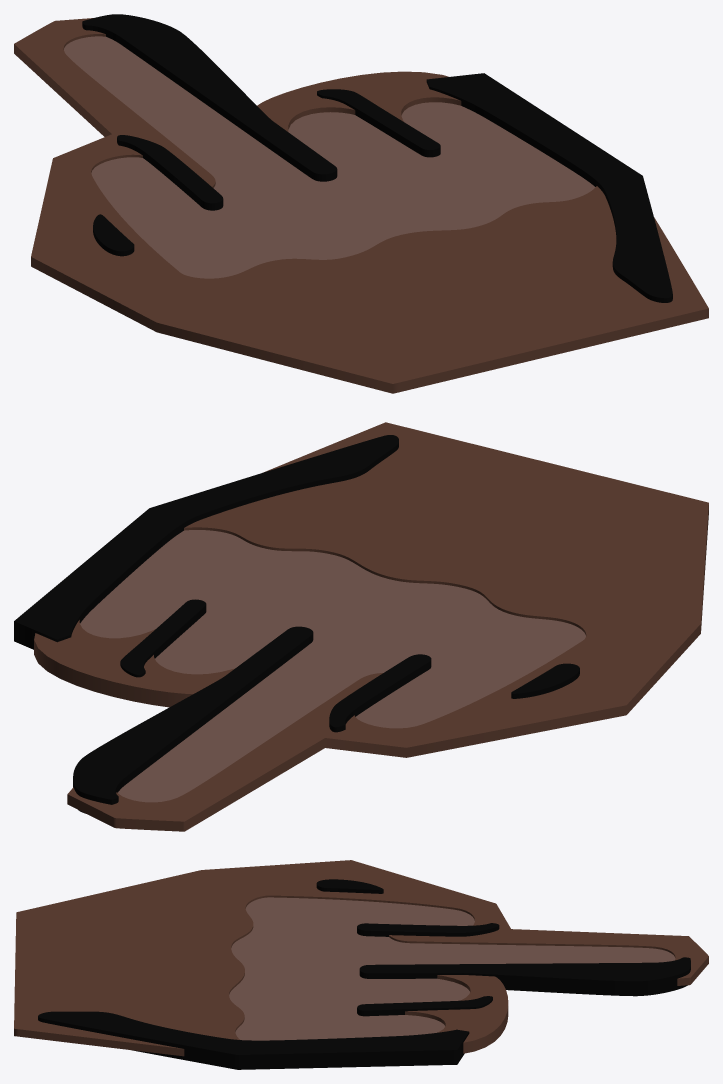
File: emoji_u1f595_1f3ff.glb
3 renders of one model, top to bottom at view 1: azimuth 30°, elevation 25°; view 2: azimuth 150°, elevation 25°; view 3: azimuth 270°, elevation 25°, orthographic. The views are drawn at different scales.
Visible parts, largest first — view 1: emoji_u1f595_1f3ff; view 2: emoji_u1f595_1f3ff; view 3: emoji_u1f595_1f3ff.
Boxes of the visible parts, <box> form: emoji_u1f595_1f3ff: <box>14,14,708,393</box>; emoji_u1f595_1f3ff: <box>14,422,708,831</box>; emoji_u1f595_1f3ff: <box>14,860,708,1069</box>.
Size of the model in its own units: 0.0231 by 0.0008 by 0.0341.
